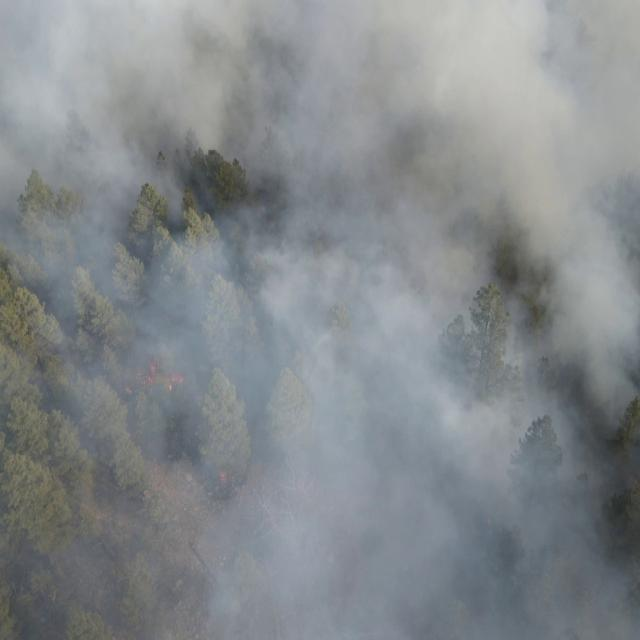fire: (125, 350, 187, 394), (220, 468, 228, 488)
smoke: (0, 0, 640, 640)
